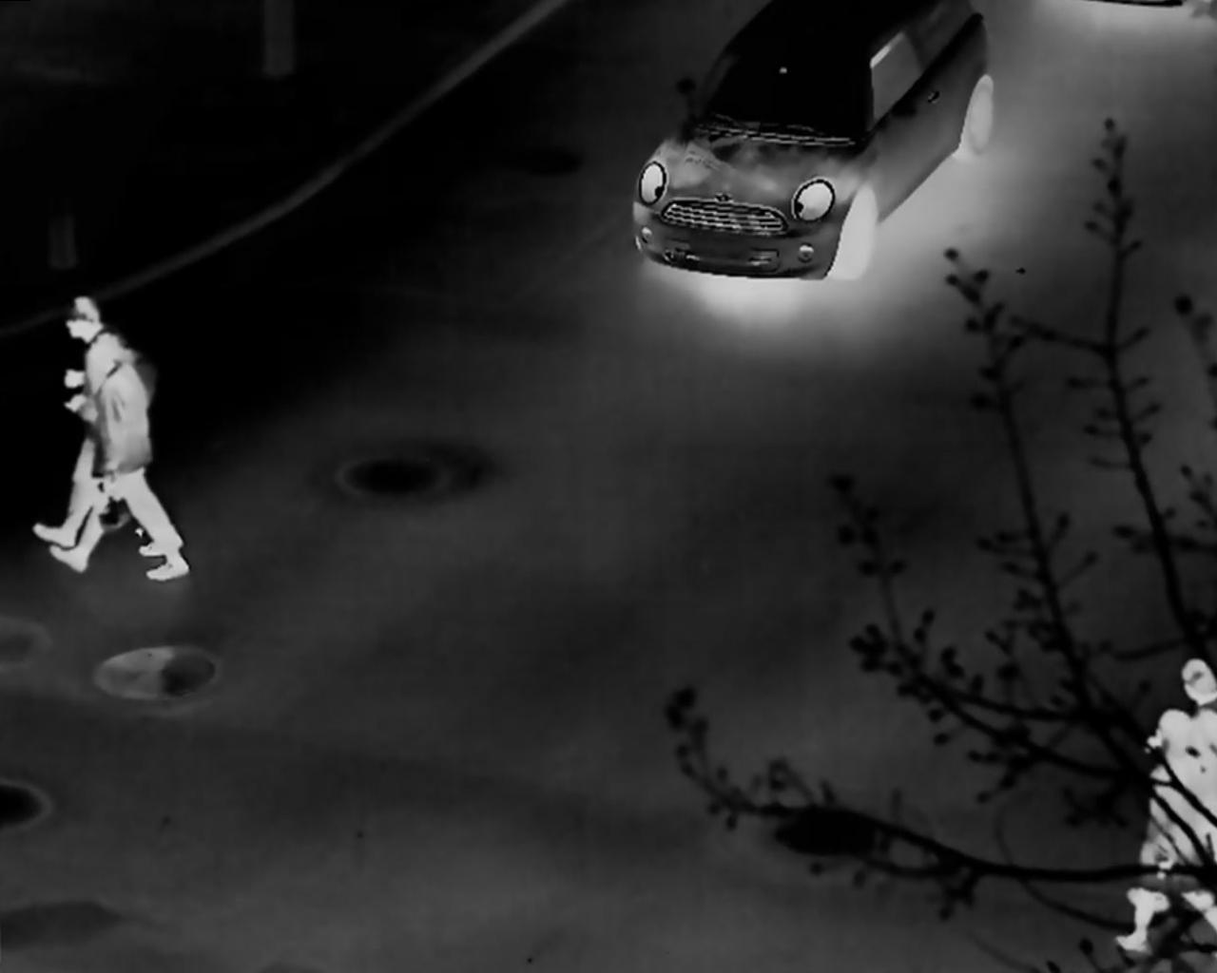person: (48, 334, 188, 595), (42, 296, 116, 497), (1151, 714, 1200, 943), (1179, 666, 1217, 918)
